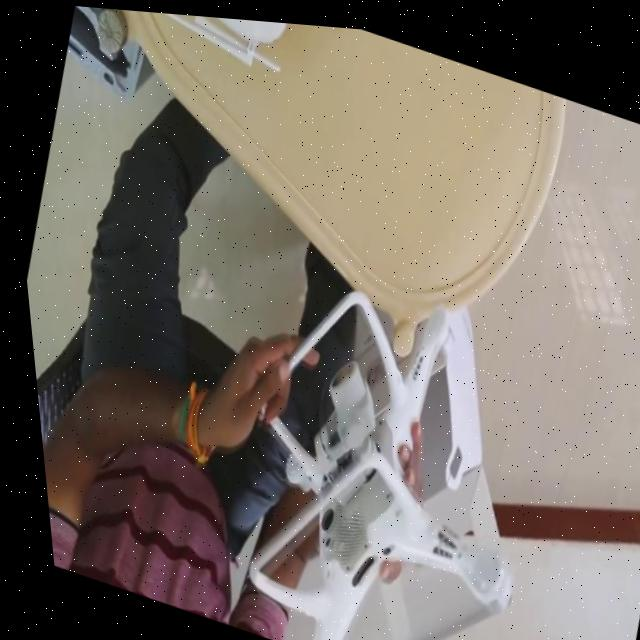drones: (149, 175, 583, 640)
